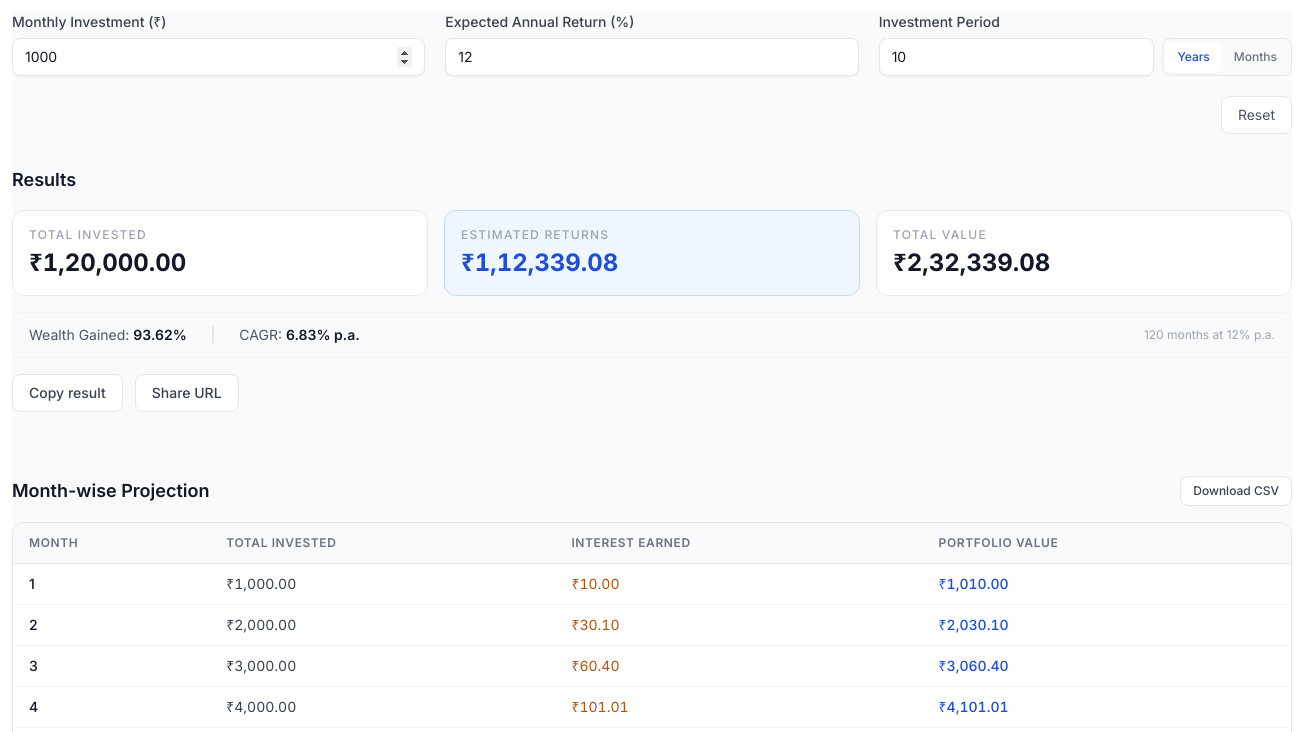
Scenario: SIPCalculator › reset restores default amount (1000)
Replace the text in the number field labelled "Monthly Investment (₹)" with "9999" at (219, 57), box [12,38,425,76]
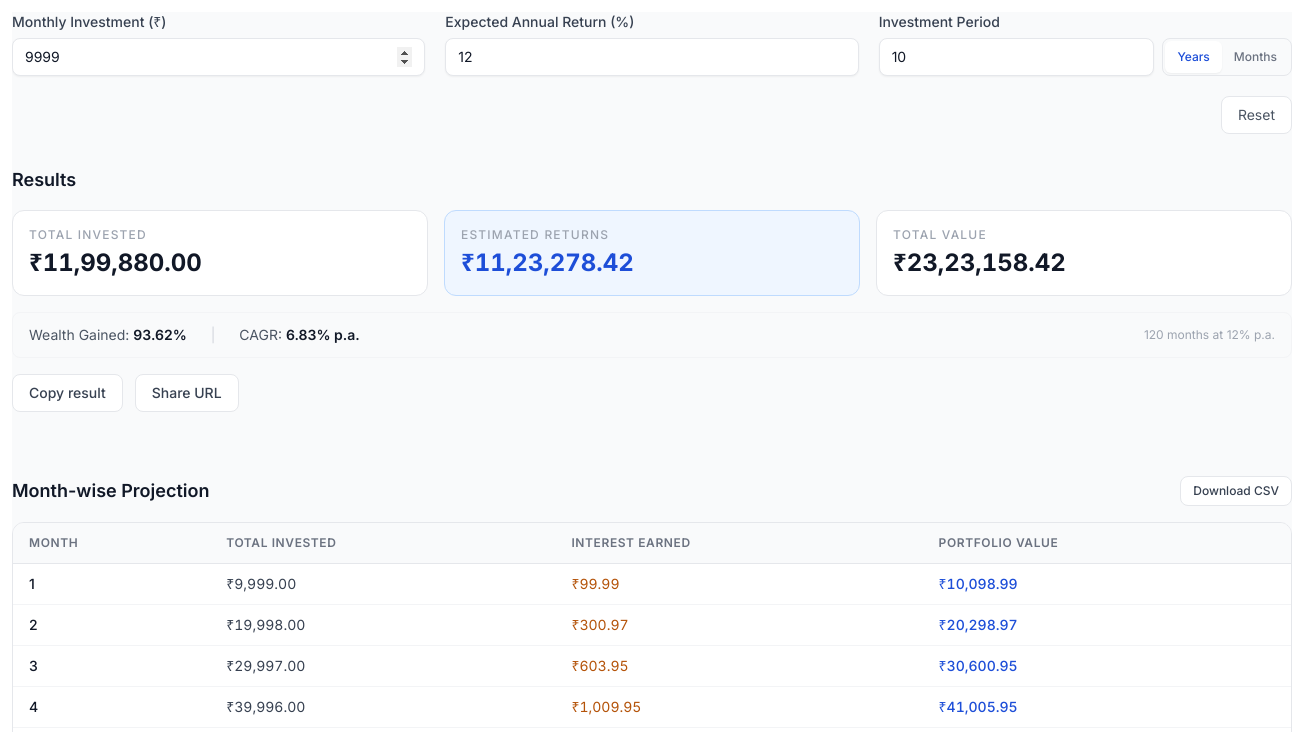
Click the button "Reset" at (1256, 115), box [1221,96,1292,134]
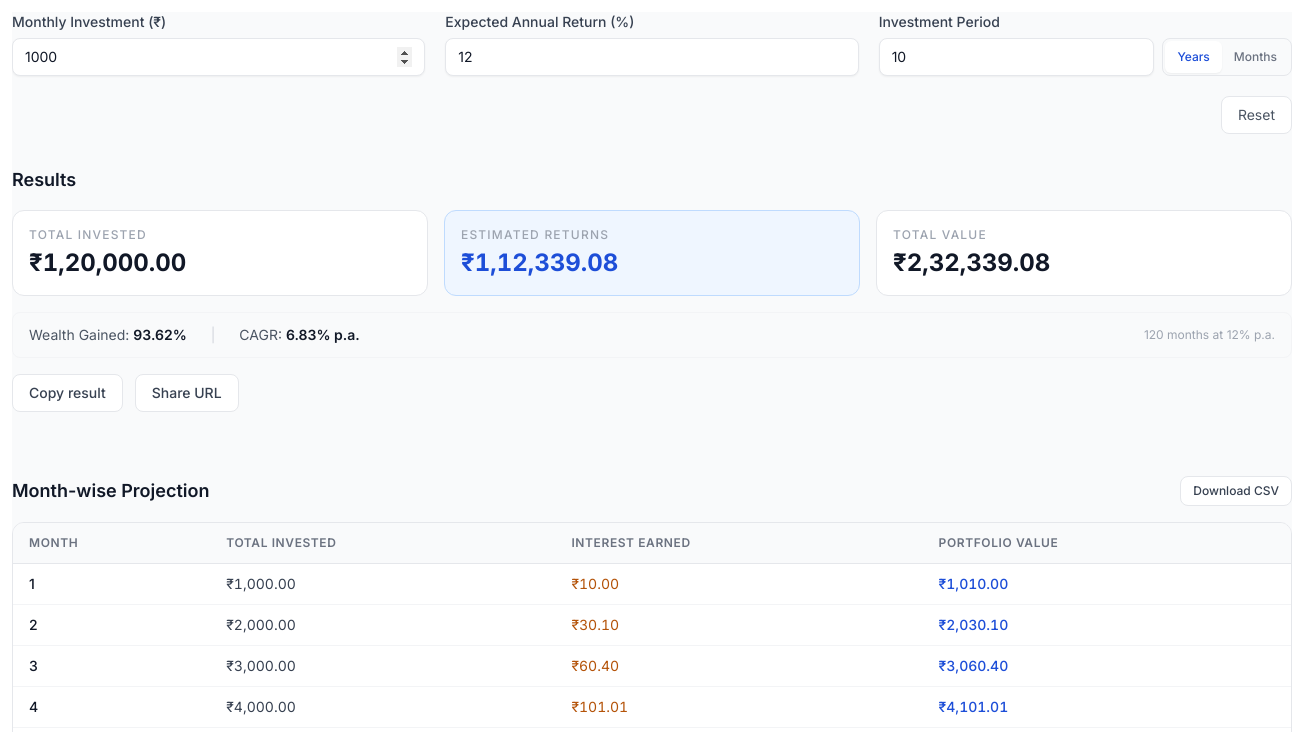
Check: the number field labelled "Monthly Investment (₹)" holds "1000", box [12,38,425,76]
